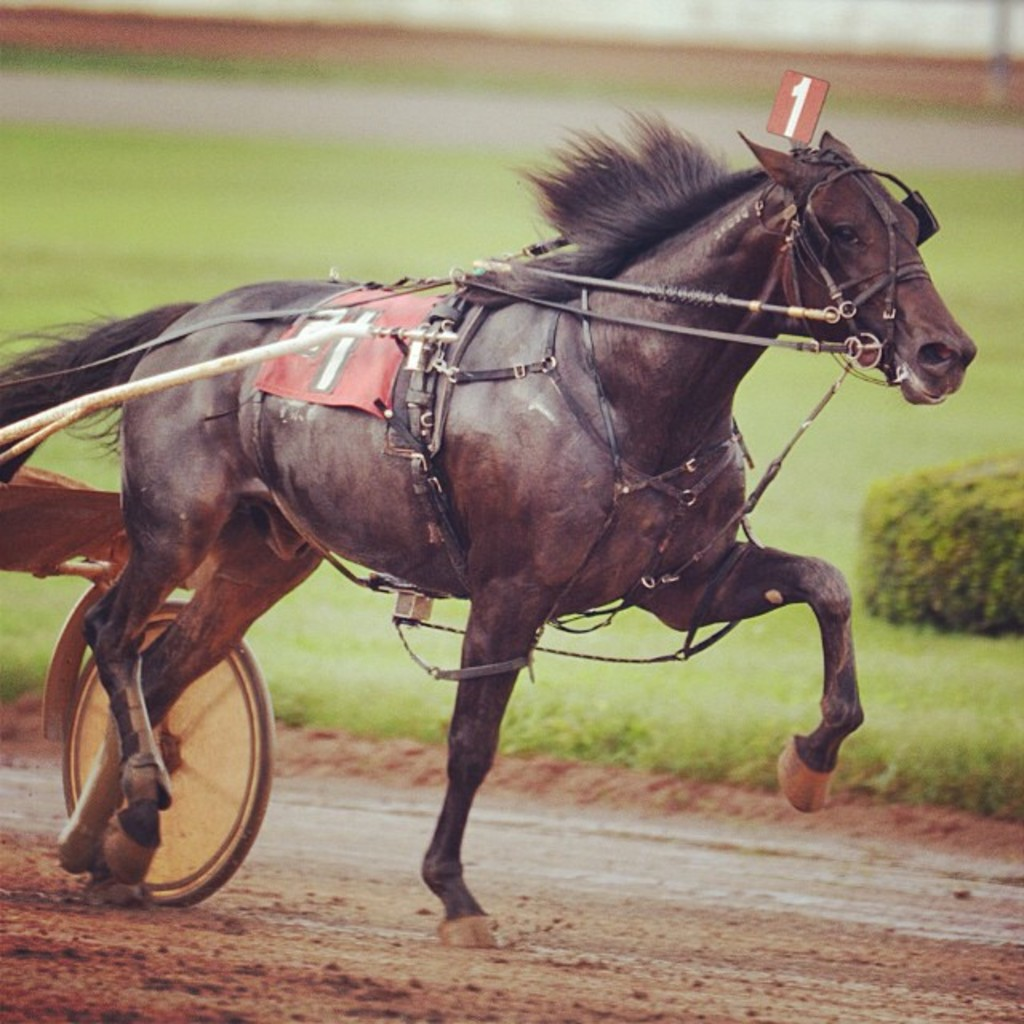horse: (0, 104, 978, 948)
